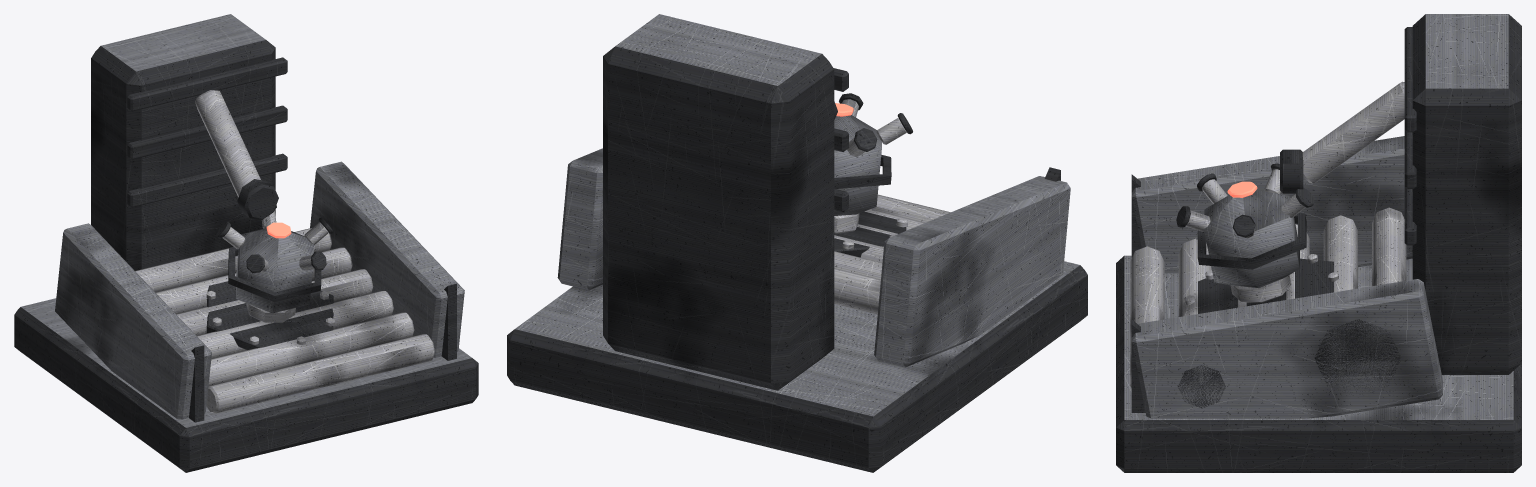
The model's file is R4X_ExplosiveTrapDeployer_LOD1.glb.
3 renders of one model, left to right at view 1: azimuth 30°, elevation 25°; view 2: azimuth 150°, elevation 25°; view 3: azimuth 270°, elevation 25°, orthographic. The views are drawn at different scales.
Parts seen in each view (by area): view 1: R4X_ExplosiveTrapDeployer_LOD1; view 2: R4X_ExplosiveTrapDeployer_LOD1; view 3: R4X_ExplosiveTrapDeployer_LOD1.
Boxes of the visible parts, x1=… form: R4X_ExplosiveTrapDeployer_LOD1: x1=14, y1=14, x2=478, y2=472; R4X_ExplosiveTrapDeployer_LOD1: x1=507, y1=14, x2=1087, y2=472; R4X_ExplosiveTrapDeployer_LOD1: x1=1116, y1=14, x2=1521, y2=472.
Size of the model in its own units: 0.52 by 0.48 by 0.52.
4 materials, 3 textured.
